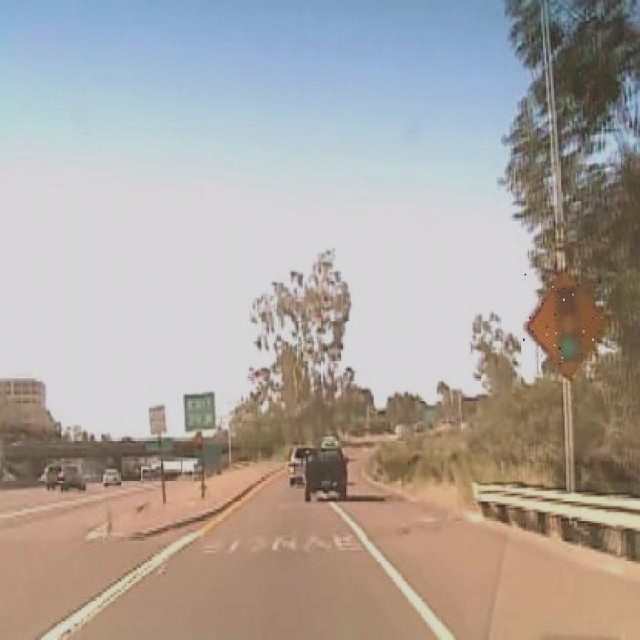signalAhead: (523, 269, 604, 380)
